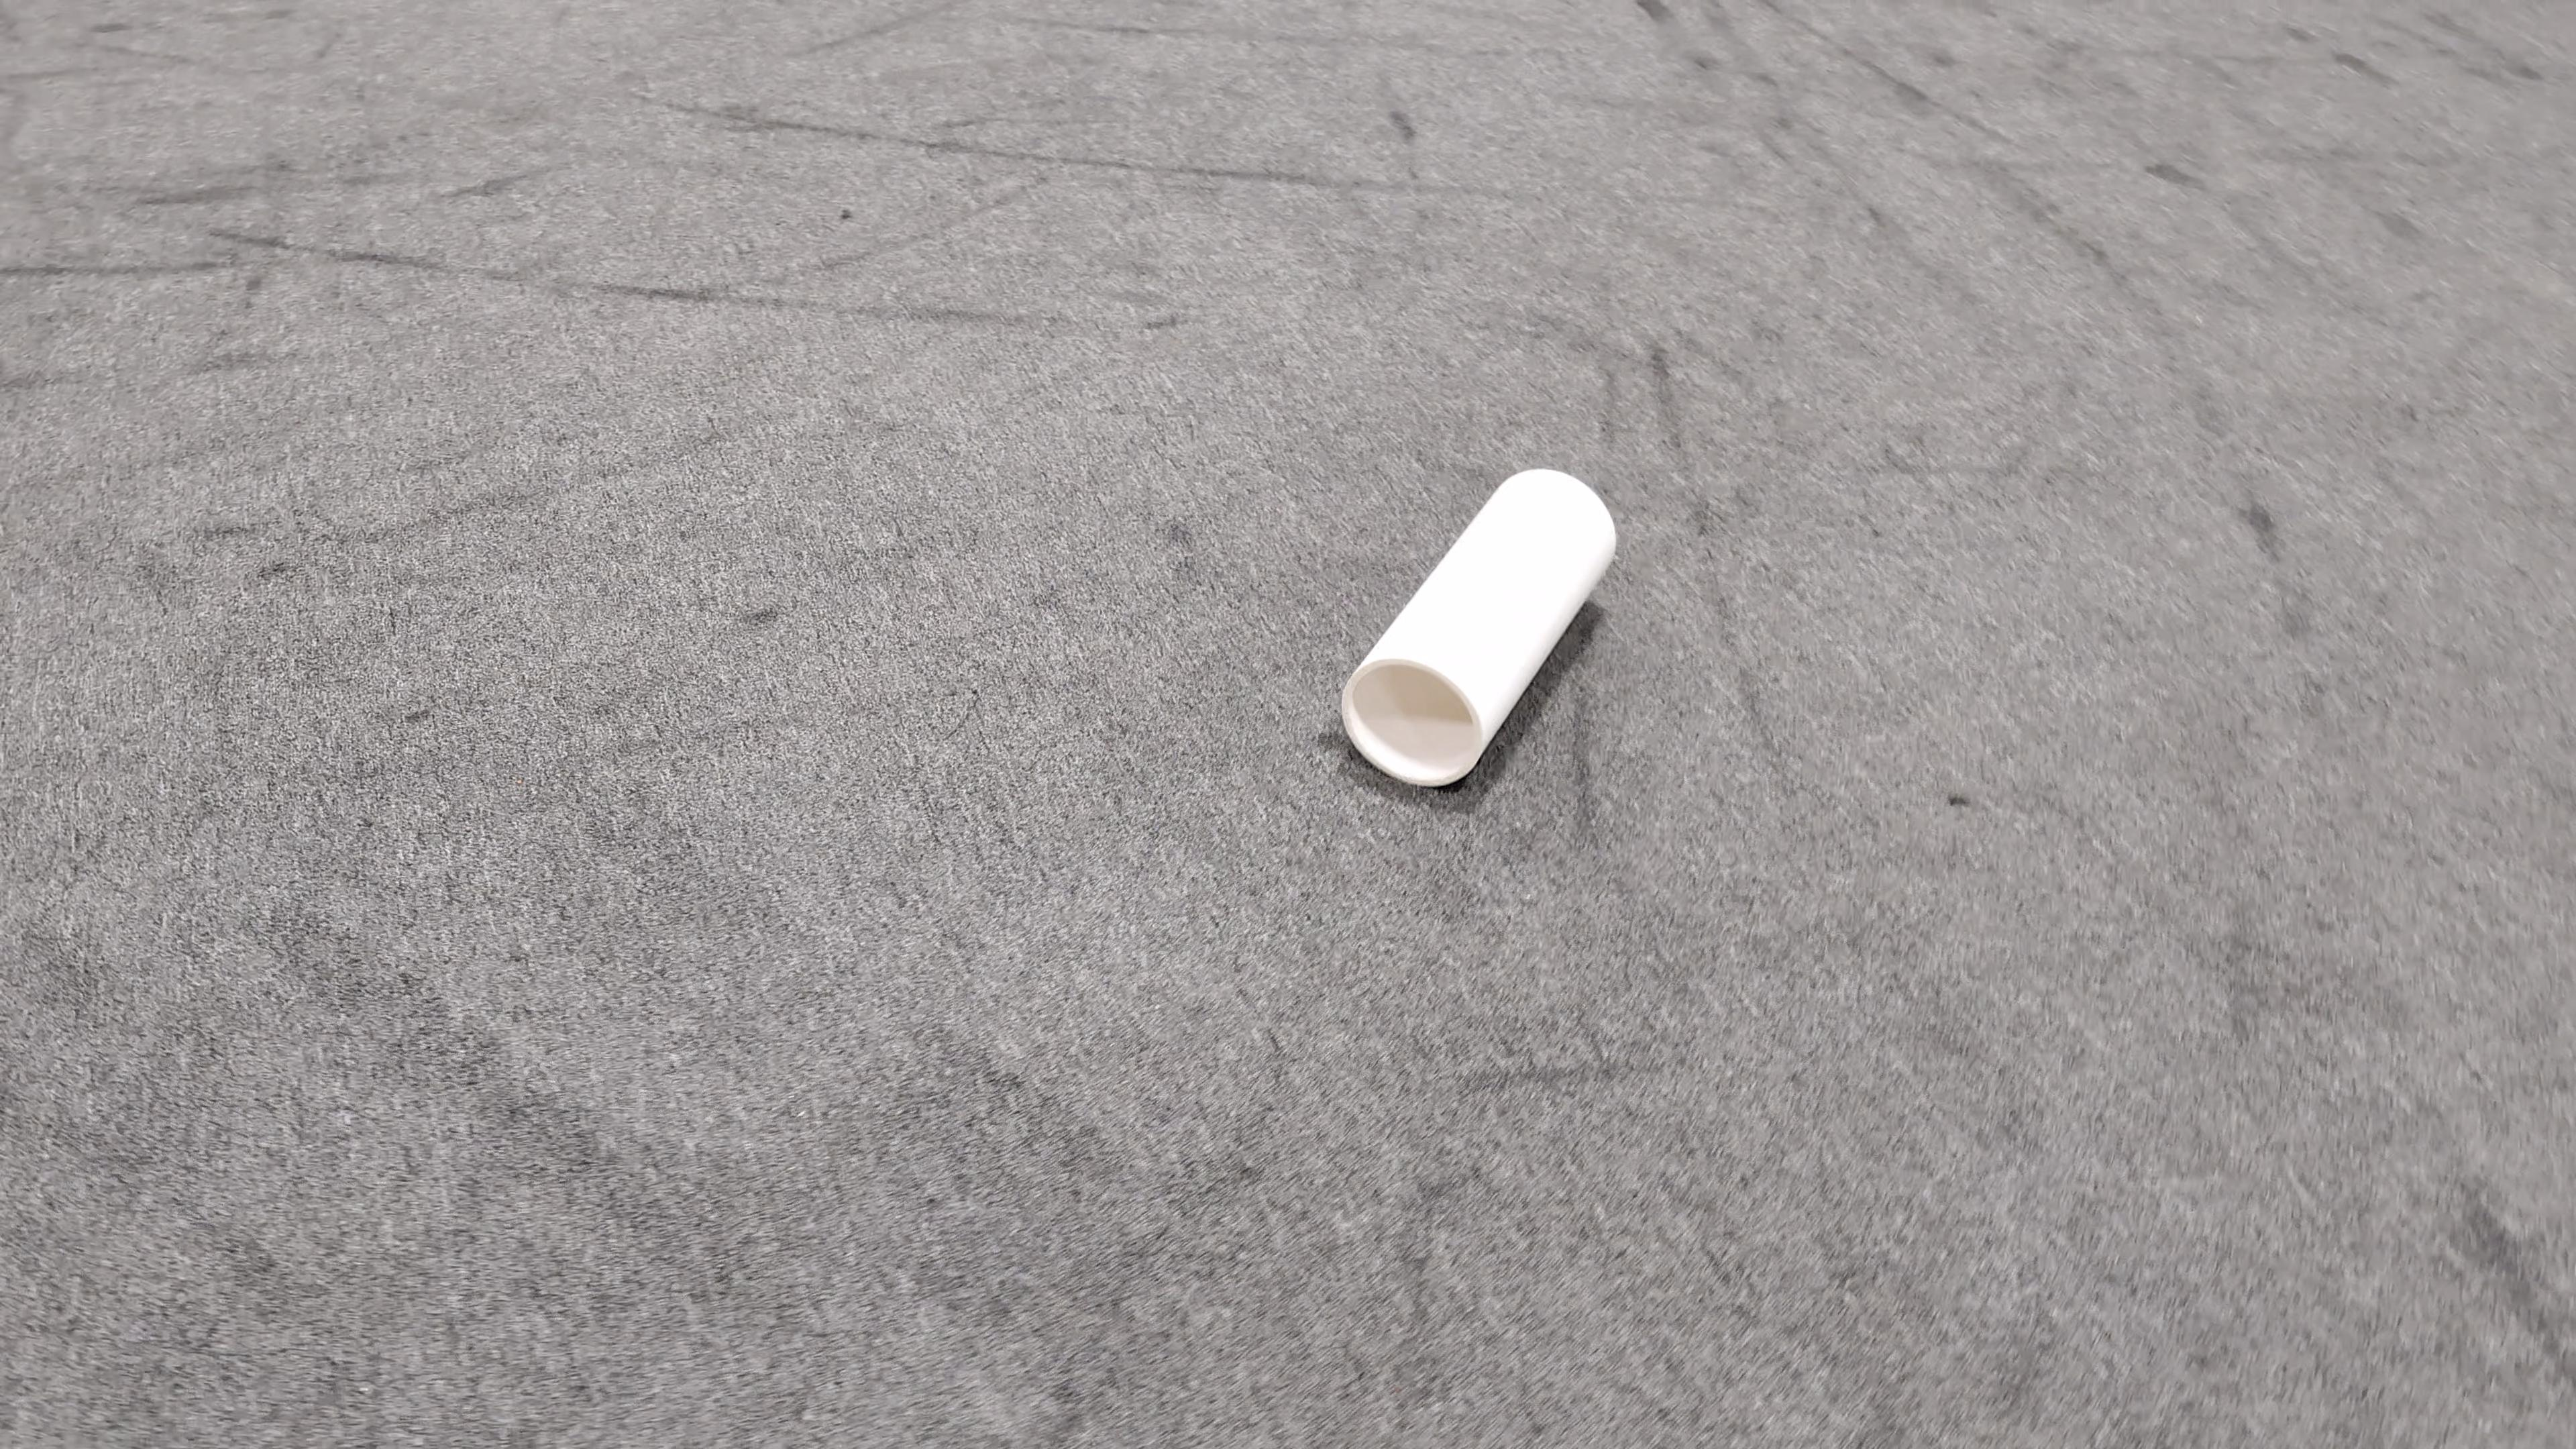coral: (1341, 471, 1617, 786)
